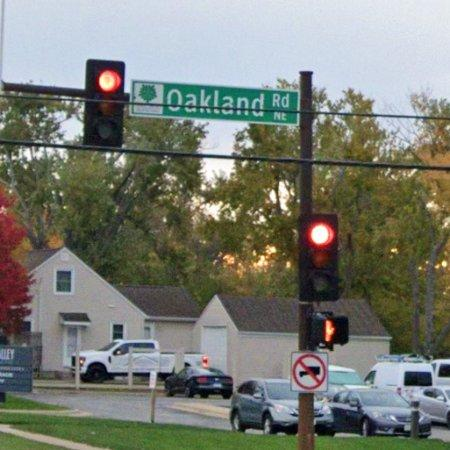traffic lights: (300, 214, 340, 302)
